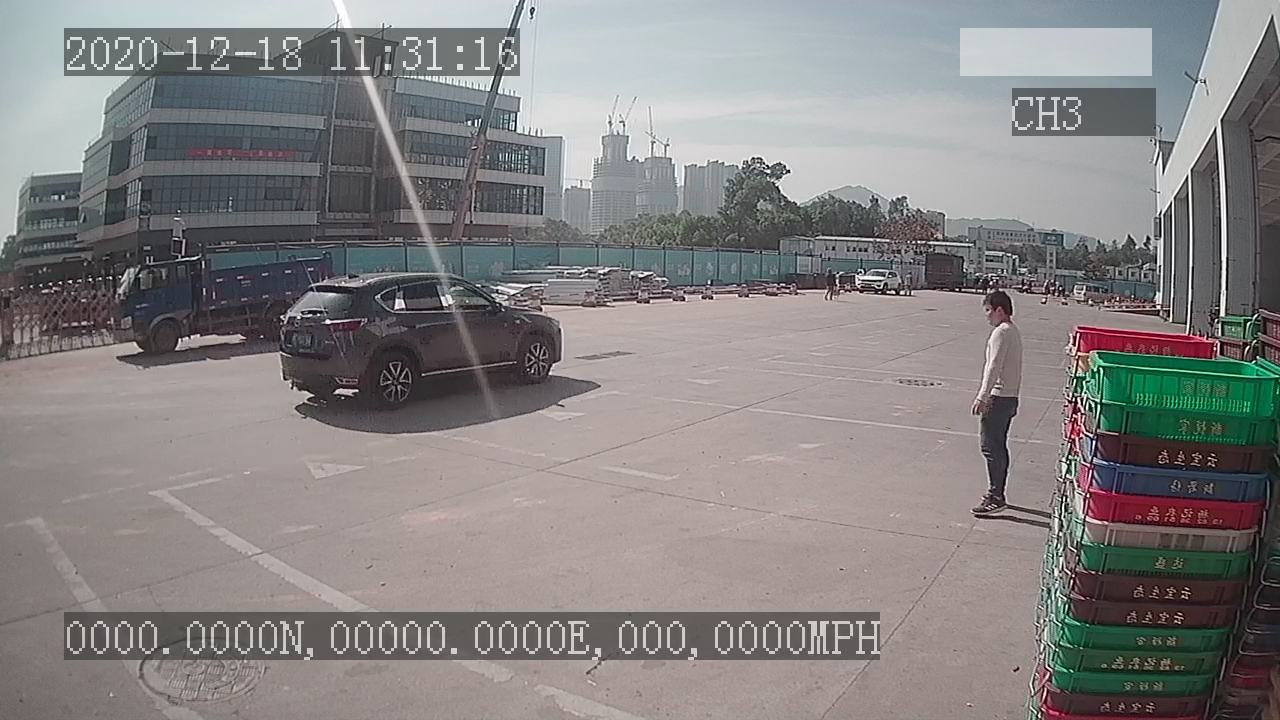person: (964, 288, 1032, 520)
